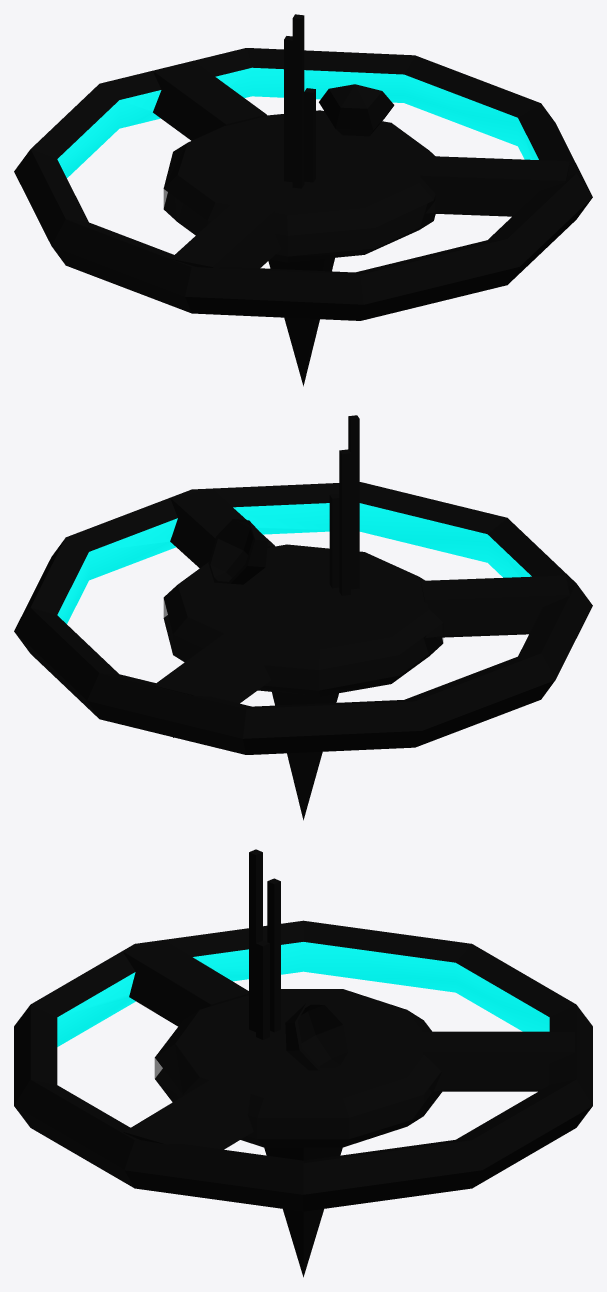
Rendered from spaceStation1.glb.
3 views of the same model, one above another, from view 1: azimuth 30°, elevation 25°; view 2: azimuth 150°, elevation 25°; view 3: azimuth 270°, elevation 25° (orthographic). The views are drawn at different scales.
Parts seen in each view (by area): view 1: Object_2, Object_4, Object_3, Object_8, Object_7, Object_6, Object_5; view 2: Object_2, Object_4, Object_3, Object_8, Object_6, Object_7, Object_5; view 3: Object_2, Object_4, Object_3, Object_8, Object_7, Object_6, Object_5.
Boxes of the visible parts, bbox=[...] form: Object_2: bbox=[14, 48, 592, 386]; Object_4: bbox=[57, 67, 538, 177]; Object_3: bbox=[163, 189, 435, 256]; Object_8: bbox=[319, 84, 394, 136]; Object_7: bbox=[292, 14, 304, 188]; Object_6: bbox=[284, 36, 292, 182]; Object_5: bbox=[304, 88, 315, 182]; Object_2: bbox=[14, 482, 592, 820]; Object_4: bbox=[57, 503, 531, 623]; Object_3: bbox=[163, 599, 443, 690]; Object_8: bbox=[208, 519, 267, 584]; Object_6: bbox=[339, 449, 350, 595]; Object_7: bbox=[348, 415, 359, 589]; Object_5: bbox=[329, 494, 339, 588]; Object_2: bbox=[14, 920, 592, 1277]; Object_4: bbox=[57, 942, 549, 1046]; Object_3: bbox=[154, 1058, 442, 1138]; Object_8: bbox=[285, 1003, 350, 1070]; Object_7: bbox=[249, 849, 262, 1031]; Object_6: bbox=[267, 878, 280, 1032]; Object_5: bbox=[256, 940, 269, 1039].
Bounding box in the file's own units: 1.81 × 1.35 × 1.72.
